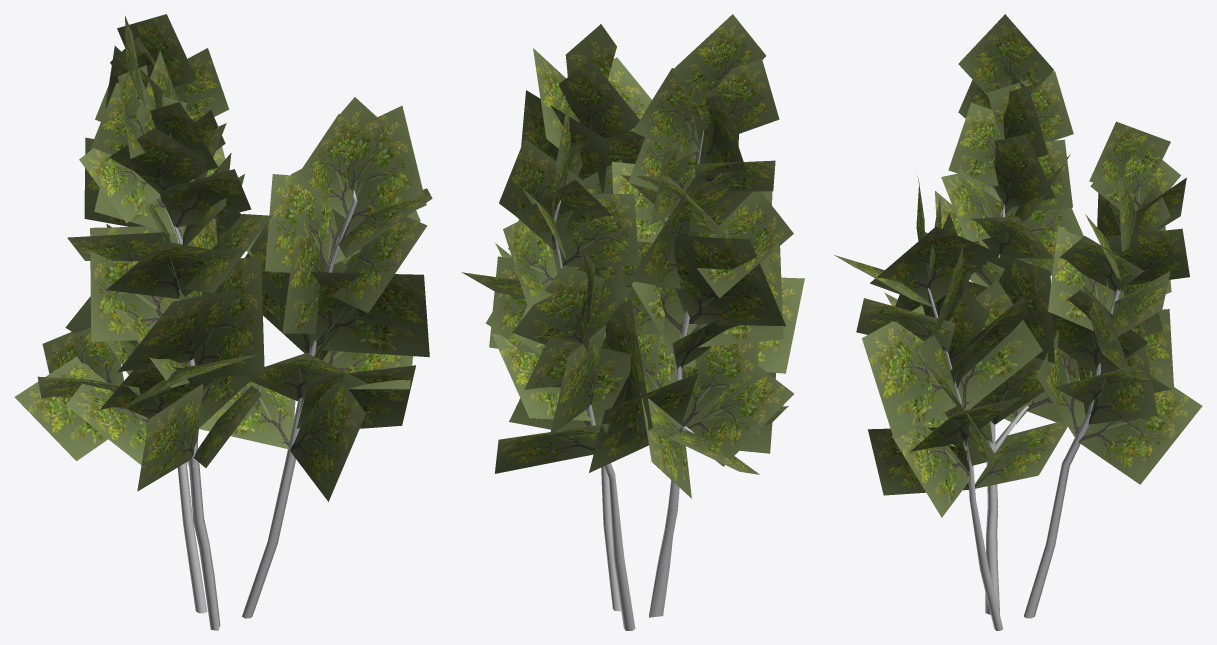
File: JiaYeSiWai1_ShuLv_1.FBX
The picture shows the model from 3 angles, left to right: view 1: azimuth 30°, elevation 25°; view 2: azimuth 150°, elevation 25°; view 3: azimuth 270°, elevation 25°; orthographic projection. The views are drawn at different scales.
Parts seen in each view (by area): view 1: JiaYeSiWai1_ShuLv_1a, JiaYeSiWai1_ShuLv_1b; view 2: JiaYeSiWai1_ShuLv_1a, JiaYeSiWai1_ShuLv_1b; view 3: JiaYeSiWai1_ShuLv_1a, JiaYeSiWai1_ShuLv_1b.
Part boxes in pixels (box(x1,y1,x2,y2)): JiaYeSiWai1_ShuLv_1a: box(14, 14, 432, 501); JiaYeSiWai1_ShuLv_1b: box(164, 190, 357, 630); JiaYeSiWai1_ShuLv_1a: box(462, 14, 804, 498); JiaYeSiWai1_ShuLv_1b: box(554, 130, 703, 630); JiaYeSiWai1_ShuLv_1a: box(834, 14, 1202, 517); JiaYeSiWai1_ShuLv_1b: box(927, 204, 1120, 630).
Size of the model in its own units: 737 by 1297 by 771.
